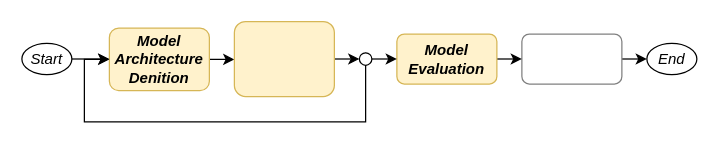
The diagram is 719 pixels wide and 155 high, and some of its shapes have lost their labels. The shapes that lost their labels are listed below. From the top down, each one's centre as x and y in pixels, then its label:
At [283,58]: "Model Training and Validation".
At [571,58]: "Model Deployment".
